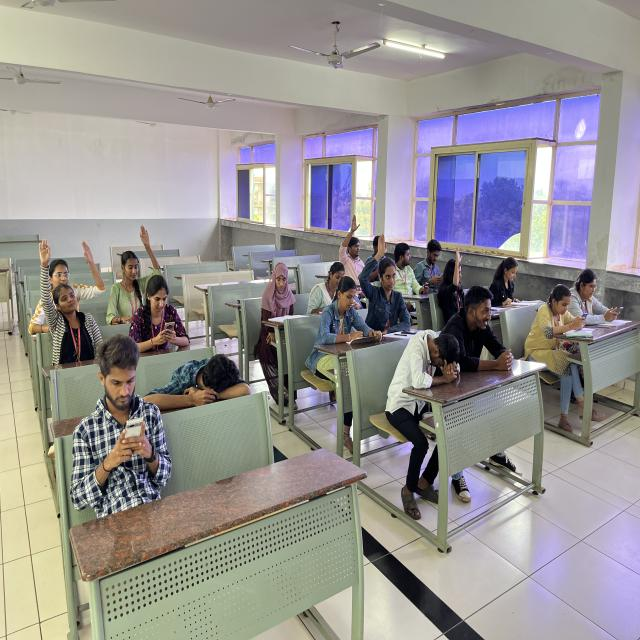Hand Rising: (31, 244, 98, 370), (358, 222, 411, 330), (40, 222, 111, 298), (114, 217, 172, 309), (334, 202, 371, 272), (438, 239, 472, 314)
Reading: (240, 246, 312, 341), (491, 234, 540, 318)
Sleeping: (152, 328, 260, 432), (392, 323, 462, 413)
Using Phone: (57, 334, 177, 489), (130, 272, 205, 358), (570, 251, 628, 328), (524, 284, 590, 347), (394, 240, 431, 298), (418, 233, 448, 297)
Writing: (315, 277, 380, 361)
